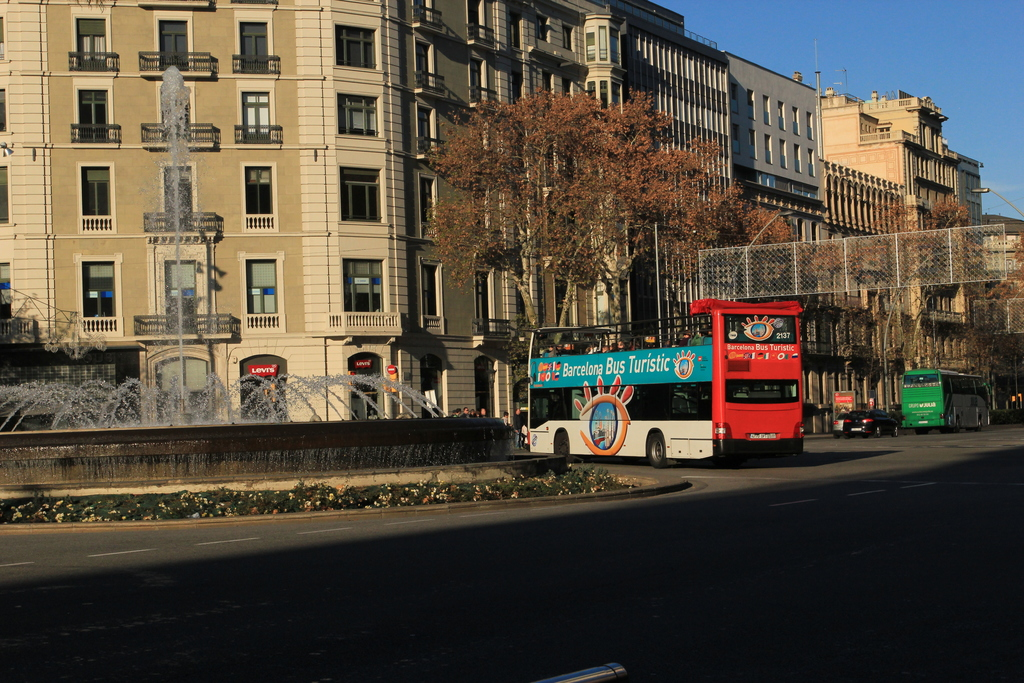Bus: (509, 302, 800, 469), (895, 365, 999, 438)
